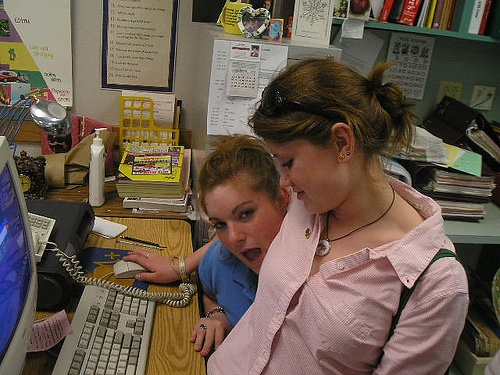head: (254, 58, 394, 218), (201, 138, 280, 294)
person: (182, 45, 482, 375), (194, 135, 294, 366)
